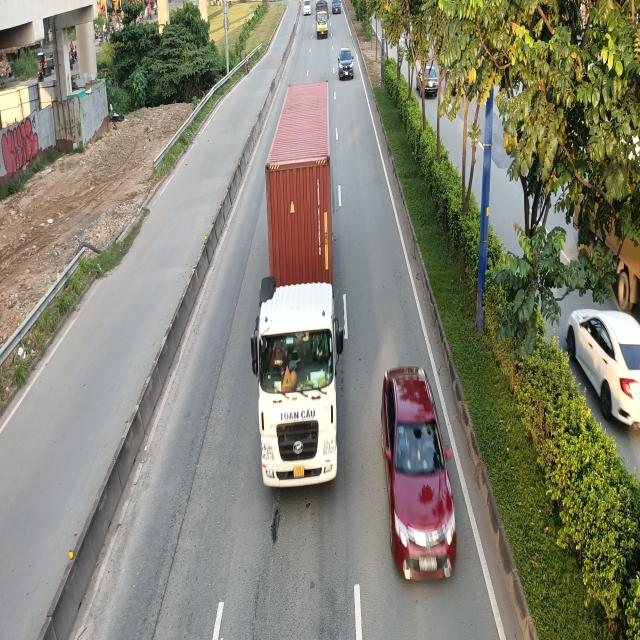car: (381, 368, 456, 584), (338, 48, 355, 80)
container: (250, 82, 346, 492)
